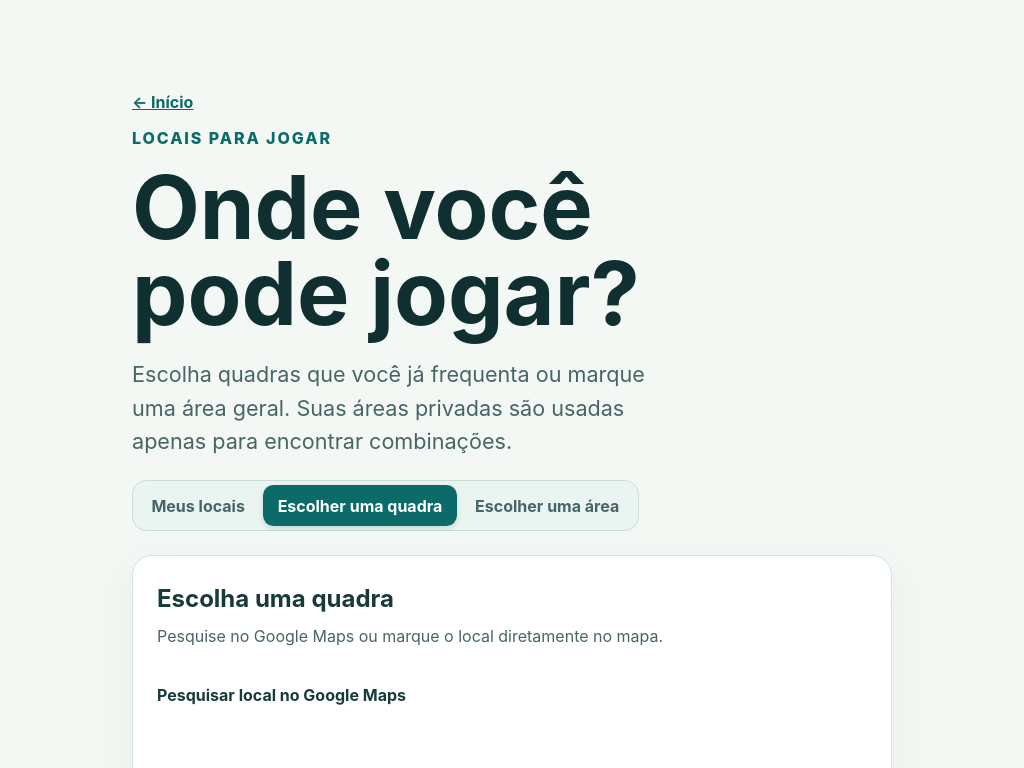
locations page › shows browser-settings guidance when location permission is blocked
Expected: the heading "Escolha uma quadra" is shown, [157,584,394,613]
Click the button "Escolher uma área" at (547,506), box [461,485,634,526]
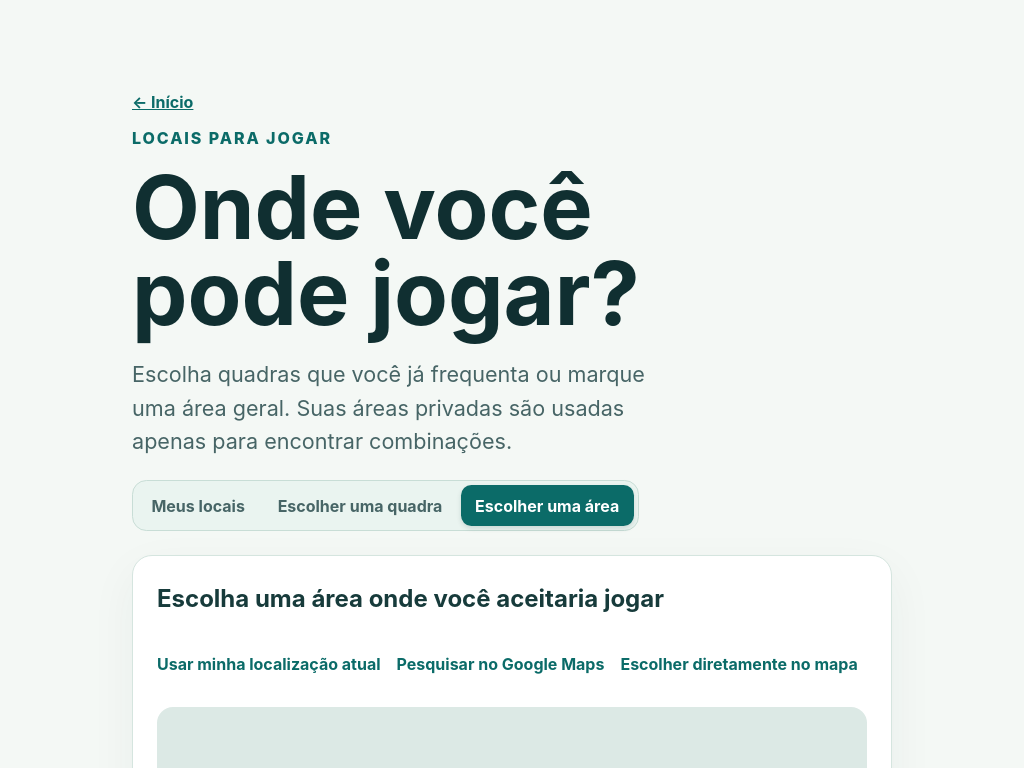
Click the button "Usar minha localização atual" at (269,665), box [157,638,380,691]
(page scrolled)
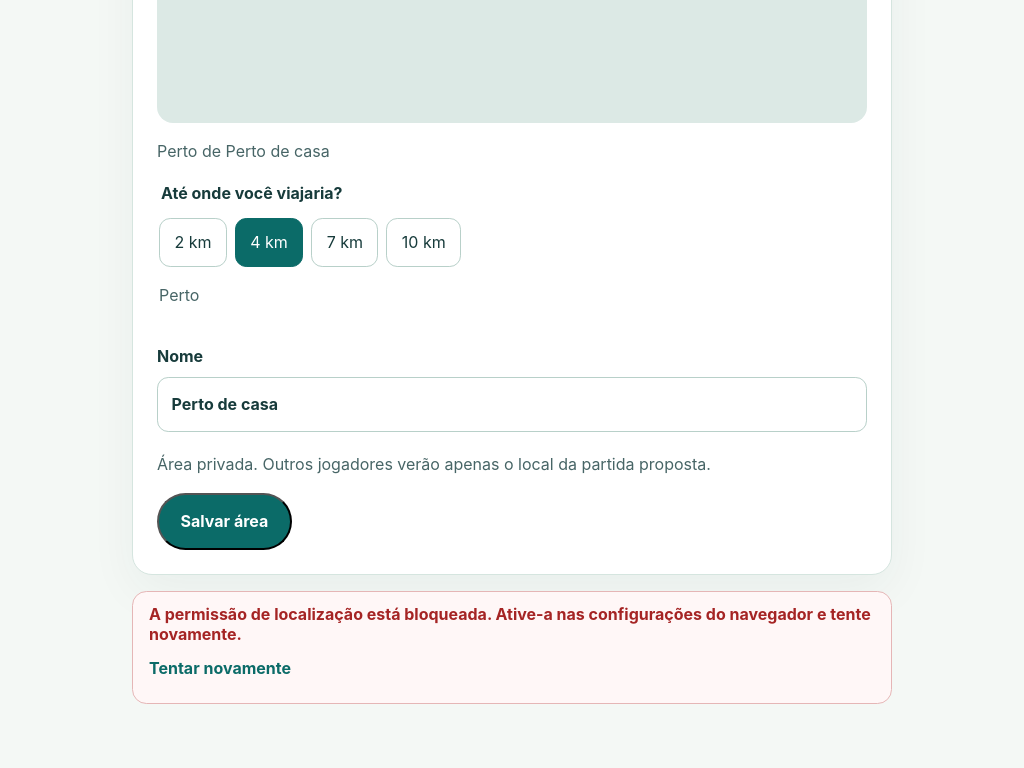
Expected: the text "ative-a nas configurações do navegador" is shown, [149,604,871,644]
